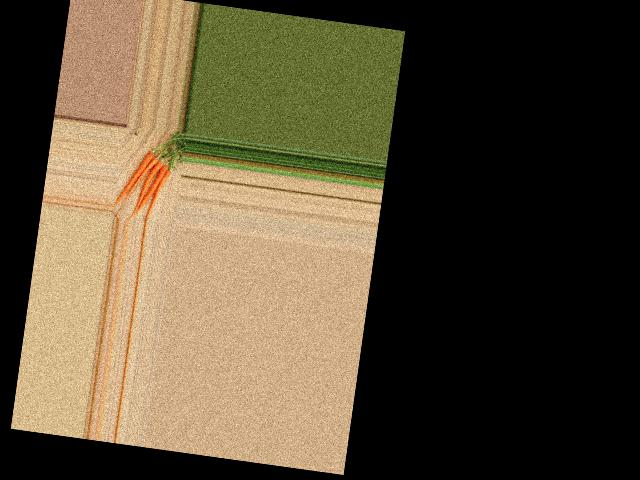carrot: (144, 168, 172, 223)
